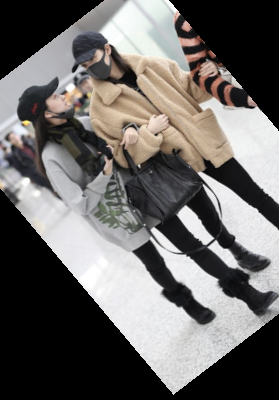mask_weared_incorrect: (11, 74, 80, 133)
